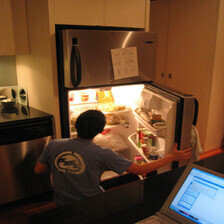laptop: (136, 155, 224, 224)
